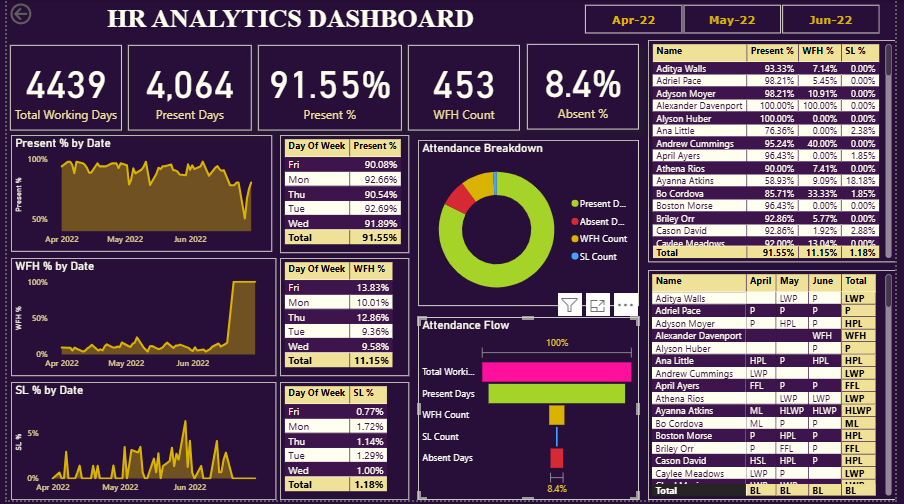

What the dashboard file says about the page in this screenshot:
{"tool":"powerbi","page":{"name":"Dashboard","canvas":[1280,720],"ordinal":0},"visuals":[{"type":"textbox","box":[10.1,0,796.3,64.8],"z":0},{"type":"card","fields":{"Values":["Measure Table.Total Working Days"]},"box":[5,65.5,161.3,122.6],"z":1000},{"type":"card","fields":{"Values":["Measure Table.Present Days"]},"box":[174.7,65.5,178.1,122.6],"z":2000},{"type":"card","fields":{"Values":["Measure Table.Present %"]},"box":[361.2,65.5,206.6,122.6],"z":3000},{"type":"slicer","fields":{"Values":["Final Data.Month"]},"box":[806.4,0,473.8,54.7],"z":4000},{"type":"card","fields":{"Values":["Measure Table.WFH Count"]},"box":[577.8,65.5,161.3,122.6],"z":5000},{"type":"tableEx","fields":{"Values":["Final Data.Name","Measure Table.Present %","Measure Table.WFH %","Measure Table.SL %"]},"box":[922.9,57.6,357.1,319.7],"z":6000},{"type":"pivotTable","fields":{"Rows":["Final Data.Name"],"Values":["Min(Final Data.Value)"],"Columns":["Final Data.Date.Variation.Date Hierarchy.Month"]},"box":[923,388.8,357.1,331.2],"z":7000},{"type":"stackedAreaChart","fields":{"Y":["Measure Table.Present %"],"Category":["Final Data.Date"]},"box":[5.8,194.4,375.8,168.5],"z":8000},{"type":"stackedAreaChart","fields":{"Category":["Final Data.Date"],"Y":["Measure Table.WFH %"]},"box":[5.8,371.5,381.6,169.9],"z":9000},{"type":"stackedAreaChart","fields":{"Category":["Final Data.Date"],"Y":["Measure Table.SL %"]},"box":[5.8,550.1,381.6,169.9],"z":10000},{"type":"tableEx","fields":{"Values":["Final Data.Day Of Week","Measure Table.Present %"]},"box":[393.5,194.4,185.8,169.9],"z":11000},{"type":"tableEx","fields":{"Values":["Final Data.Day Of Week","Measure Table.WFH %"]},"box":[393.5,371.5,185.8,169.9],"z":12000},{"type":"tableEx","fields":{"Values":["Final Data.Day Of Week","Measure Table.SL %"]},"box":[393.5,550.1,185.8,169.9],"z":13000},{"type":"donutChart","title":"Attendance Breakdown","fields":{"Y":["Measure Table.Present Days","Measure Table.Absent Days","Measure Table.WFH Count","Measure Table.SL Count"]},"box":[591.8,201.6,318.2,239],"z":13001},{"type":"funnel","title":"Attendance Flow","fields":{"Y":["Measure Table.Total Working Days","Measure Table.Present Days","Measure Table.WFH Count","Measure Table.SL Count","Measure Table.Absent Days"]},"box":[591.8,456.5,318.2,263.5],"z":13002},{"type":"actionButton","box":[0,0,100,40],"z":13003},{"type":"card","fields":{"Values":["Measure Table.Absent %"]},"box":[749.2,63.8,161.3,122.6],"z":13004}]}

Visuals, with their boxes in screenshot pixels (x1, y1, x2, y2), scaled from the page's 1280x720 canvas onto the 904x504 screenshot:
textbox: 7/0/570/45
card - Measure Table.Total Working Days: 4/46/117/132
card - Measure Table.Present Days: 123/46/249/132
card - Measure Table.Present %: 255/46/401/132
slicer - Final Data.Month: 570/0/903/38
card - Measure Table.WFH Count: 408/46/522/132
tableEx - Final Data.Name x Measure Table.Present %: 652/40/903/264
pivotTable - Final Data.Name x Min(Final Data.Value): 652/272/903/503
stackedAreaChart - Measure Table.Present % x Final Data.Date: 4/136/270/254
stackedAreaChart - Final Data.Date x Measure Table.WFH %: 4/260/274/379
stackedAreaChart - Final Data.Date x Measure Table.SL %: 4/385/274/503
tableEx - Final Data.Day Of Week x Measure Table.Present %: 278/136/409/255
tableEx - Final Data.Day Of Week x Measure Table.WFH %: 278/260/409/379
tableEx - Final Data.Day Of Week x Measure Table.SL %: 278/385/409/503
"Attendance Breakdown" donutChart: 418/141/643/308
"Attendance Flow" funnel: 418/320/643/503
actionButton: 0/0/71/28
card - Measure Table.Absent %: 529/45/643/130
